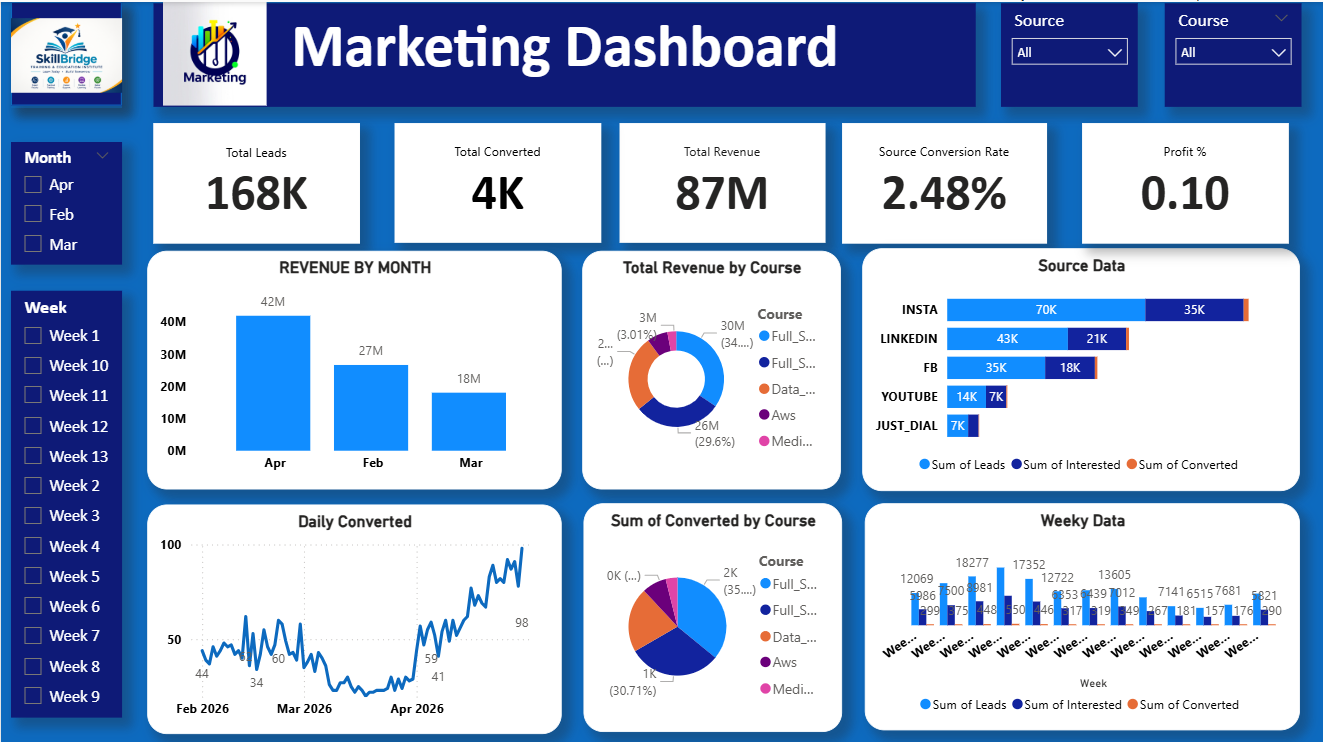

This screenshot's page, from the dashboard's own definition file:
{"tool":"powerbi","page":{"name":"Page 1","canvas":[1280,720],"ordinal":0},"visuals":[{"type":"shape","box":[10,0,107,100],"z":0},{"type":"image","box":[9.6,1.4,107.5,100.6],"z":1000},{"type":"slicer","fields":{"Values":["Plarforms_data.Week"]},"box":[9.6,278.4,107.5,412.1],"z":2000},{"type":"slicer","fields":{"Values":["Platforms_Data.Month"]},"box":[9.6,135.1,107.5,118.5],"z":3000},{"type":"textbox","box":[147.5,1.4,793.8,100],"z":4000},{"type":"slicer","fields":{"Values":["Plarforms_data.Source"]},"box":[964.7,1.4,132.3,100],"z":5000},{"type":"slicer","fields":{"Values":["Course_data.Course"]},"box":[1123.2,1.4,132.3,100],"z":6000},{"type":"cardVisual","fields":{"Data":["Course_data.Total Leads"]},"box":[147.5,117.1,199,116],"z":7000},{"type":"cardVisual","fields":{"Data":["Course_data.Total Revenue"]},"box":[597.5,116.7,198.4,115.5],"z":8000},{"type":"cardVisual","fields":{"Data":["Course_data.Total Converted"]},"box":[380.5,116.7,199.6,115.5],"z":9000},{"type":"cardVisual","fields":{"Data":["Platforms_Data.Source Conversion Rate"]},"box":[811.9,117,197.9,115.8],"z":10000},{"type":"columnChart","title":"REVENUE BY MONTH","fields":{"Category":["Dim_Date.Month"],"Y":["Sum(Course_data.Revenue)"]},"box":[140.6,239.8,400,230],"z":12000},{"type":"donutChart","fields":{"Category":["Dim_Course.Course"],"Y":["Course_data.Total Revenue"]},"box":[560.9,239.8,249.4,230.1],"z":13000},{"type":"pieChart","fields":{"Category":["Dim_Course.Course"],"Y":["Sum(Course_data.Converted)"]},"box":[562.3,483.7,249.4,220.5],"z":14000},{"type":"barChart","title":"Source Data","fields":{"Y":["Sum(Platforms_Data.Leads)","Sum(Platforms_Data.Interested)","Sum(Platforms_Data.Converted)"],"Category":["Platforms_Data.Source"]},"box":[831.2,237.7,422.3,234],"z":15000},{"type":"stackedAreaChart","title":"Daily Converted ","fields":{"Category":["Course_data.Date"],"Y":["Sum(Course_data.Converted)"]},"box":[140.6,485.1,399.7,221.9],"z":16000},{"type":"clusteredColumnChart","title":"Weeky Data","fields":{"Category":["Platforms_Data.Week"],"Y":["Sum(Platforms_Data.Leads)","Sum(Platforms_Data.Interested)","Sum(Platforms_Data.Converted)"]},"box":[833.7,483.8,419.8,219.6],"z":17000},{"type":"cardVisual","fields":{"Data":["Course_data.Profit %"]},"box":[1043.6,117,199.1,115.8],"z":17001},{"type":"image","box":[141.2,1.2,130.3,100.1],"z":17002}]}

Visuals, with their boxes in screenshot pixels (x1, y1, x2, y2), scaled from the page's 1280x720 canvas onto the 1323x742 screenshot:
shape: {"x1": 10, "y1": 0, "x2": 121, "y2": 103}
image: {"x1": 10, "y1": 1, "x2": 121, "y2": 105}
slicer - Plarforms_data.Week: {"x1": 10, "y1": 287, "x2": 121, "y2": 712}
slicer - Platforms_Data.Month: {"x1": 10, "y1": 139, "x2": 121, "y2": 261}
textbox: {"x1": 152, "y1": 1, "x2": 973, "y2": 104}
slicer - Plarforms_data.Source: {"x1": 997, "y1": 1, "x2": 1134, "y2": 104}
slicer - Course_data.Course: {"x1": 1161, "y1": 1, "x2": 1298, "y2": 104}
cardVisual - Course_data.Total Leads: {"x1": 152, "y1": 121, "x2": 358, "y2": 240}
cardVisual - Course_data.Total Revenue: {"x1": 618, "y1": 120, "x2": 823, "y2": 239}
cardVisual - Course_data.Total Converted: {"x1": 393, "y1": 120, "x2": 600, "y2": 239}
cardVisual - Platforms_Data.Source Conversion Rate: {"x1": 839, "y1": 121, "x2": 1044, "y2": 240}
"REVENUE BY MONTH" columnChart: {"x1": 145, "y1": 247, "x2": 559, "y2": 484}
donutChart - Dim_Course.Course x Course_data.Total Revenue: {"x1": 580, "y1": 247, "x2": 838, "y2": 484}
pieChart - Dim_Course.Course x Sum(Course_data.Converted): {"x1": 581, "y1": 498, "x2": 839, "y2": 726}
"Source Data" barChart: {"x1": 859, "y1": 245, "x2": 1296, "y2": 486}
"Daily Converted " stackedAreaChart: {"x1": 145, "y1": 500, "x2": 558, "y2": 729}
"Weeky Data" clusteredColumnChart: {"x1": 862, "y1": 499, "x2": 1296, "y2": 725}
cardVisual - Course_data.Profit %: {"x1": 1079, "y1": 121, "x2": 1284, "y2": 240}
image: {"x1": 146, "y1": 1, "x2": 281, "y2": 104}
